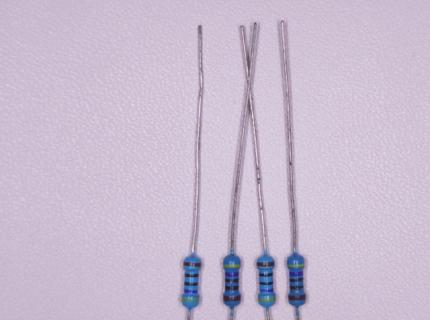Black band: (290, 285, 305, 290), (184, 273, 199, 278), (259, 272, 273, 277), (184, 281, 198, 286), (289, 278, 304, 282), (225, 279, 240, 283), (259, 281, 273, 285), (225, 286, 239, 290)
Brown band: (223, 294, 241, 301), (288, 295, 307, 301), (257, 261, 275, 267), (183, 262, 202, 267)
Violet band: (184, 288, 198, 294), (225, 272, 240, 277), (289, 272, 304, 277), (259, 288, 274, 292)
Yellow band: (258, 297, 276, 302), (181, 298, 200, 302), (223, 264, 241, 268), (287, 264, 305, 267)
